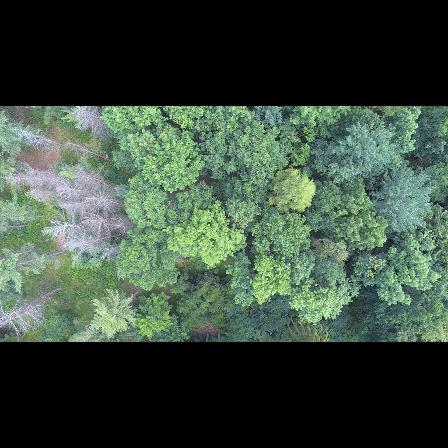Dead: (0, 287, 60, 340), (14, 123, 74, 154), (2, 167, 82, 190), (66, 106, 116, 140), (26, 185, 85, 209), (64, 139, 115, 163), (89, 210, 132, 236), (74, 167, 122, 189), (40, 218, 88, 240), (82, 189, 127, 209), (47, 200, 92, 216), (68, 237, 112, 248), (102, 242, 125, 263)
